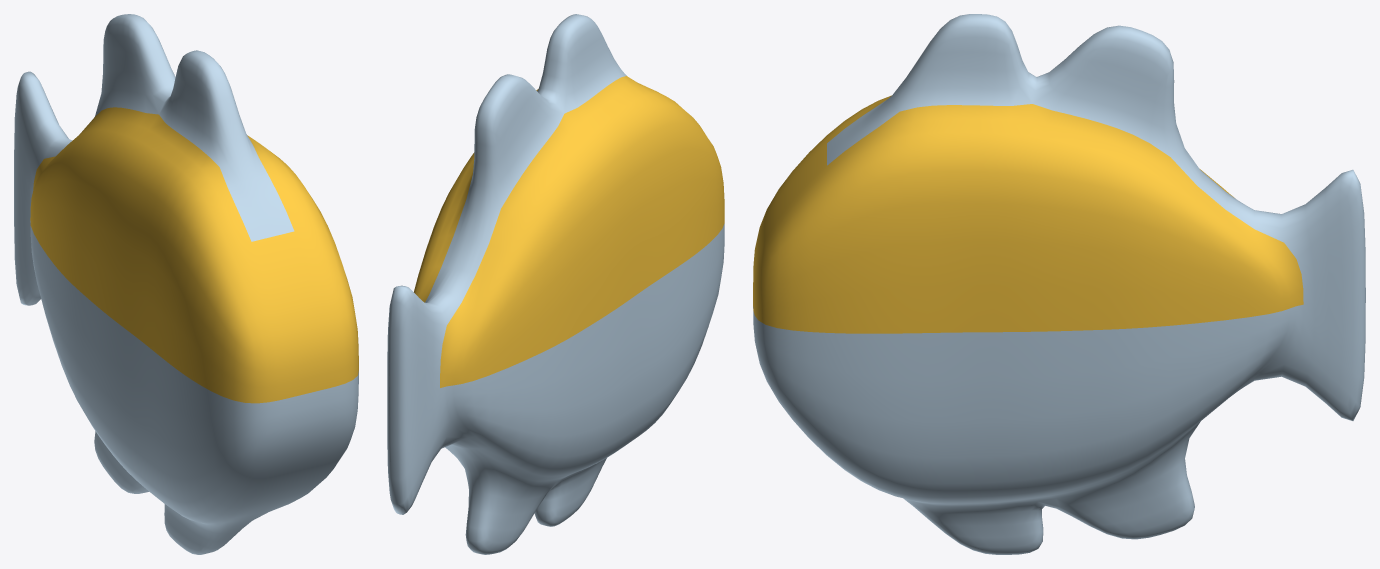
The model's file is BigFish.fbx.
The picture shows the model from 3 angles, left to right: view 1: azimuth 30°, elevation 25°; view 2: azimuth 150°, elevation 25°; view 3: azimuth 270°, elevation 25°; orthographic projection. The views are drawn at different scales.
Parts seen in each view (by area): view 1: Cube; view 2: Cube; view 3: Cube.
Part boxes in pixels (left/top/right/bottom): Cube: left=14, top=14, right=358, bottom=554; Cube: left=387, top=14, right=724, bottom=554; Cube: left=753, top=14, right=1365, bottom=554.
Bounding box in the file's own units: 33.36 × 109 × 113.
